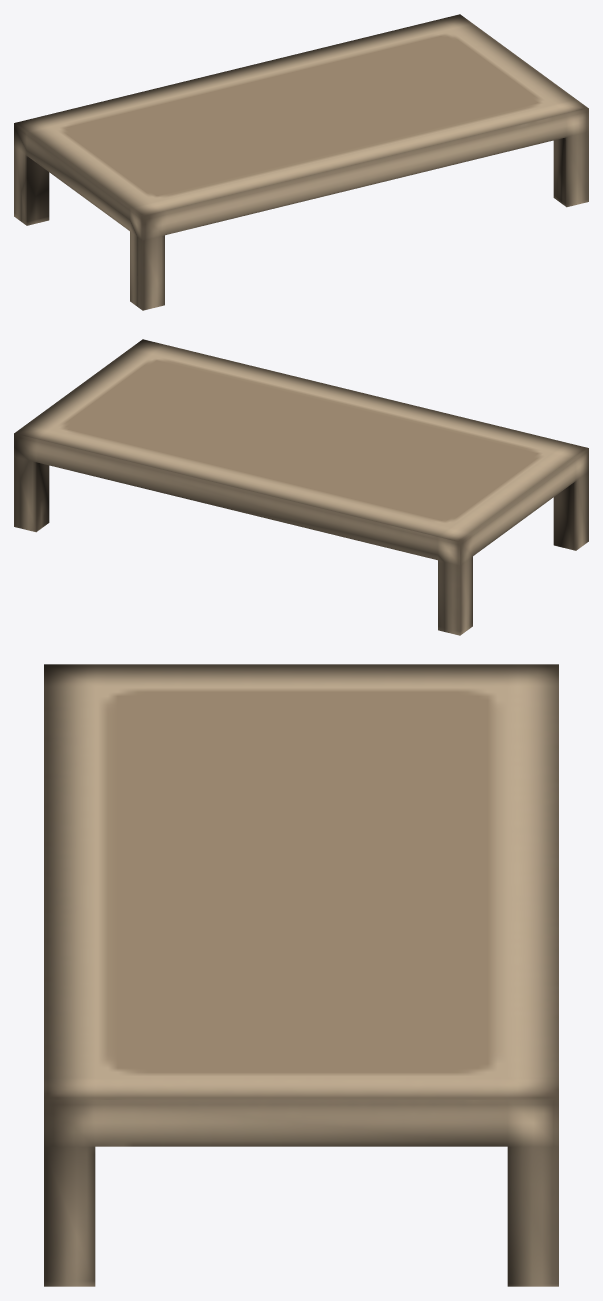
File: Table2.fbx
The picture shows the model from 3 angles, top to bottom: view 1: azimuth 30°, elevation 25°; view 2: azimuth 150°, elevation 25°; view 3: azimuth 270°, elevation 25°; orthographic projection. The views are drawn at different scales.
Parts seen in each view (by area): view 1: Table2; view 2: Table2; view 3: Table2.
Boxes of the visible parts, x1,y1,x2,y2 form: Table2: [14, 14, 588, 310]; Table2: [14, 339, 588, 635]; Table2: [44, 664, 558, 1286].
Bounding box in the file's own units: 2 × 0.4 × 1.
Materials: 1 (1 with a texture image).
